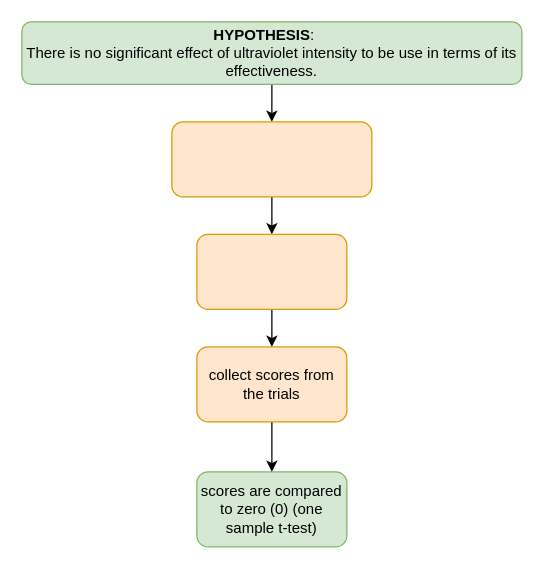
This 544x569 diagram has some shape labels left out. The centre of each missing label's shape, as x and y in pixels:
"sample are treated with UV for 5 trials" belongs at (x=271, y=271).
"sample for the experiment are randomly assigned." belongs at (x=271, y=159).
